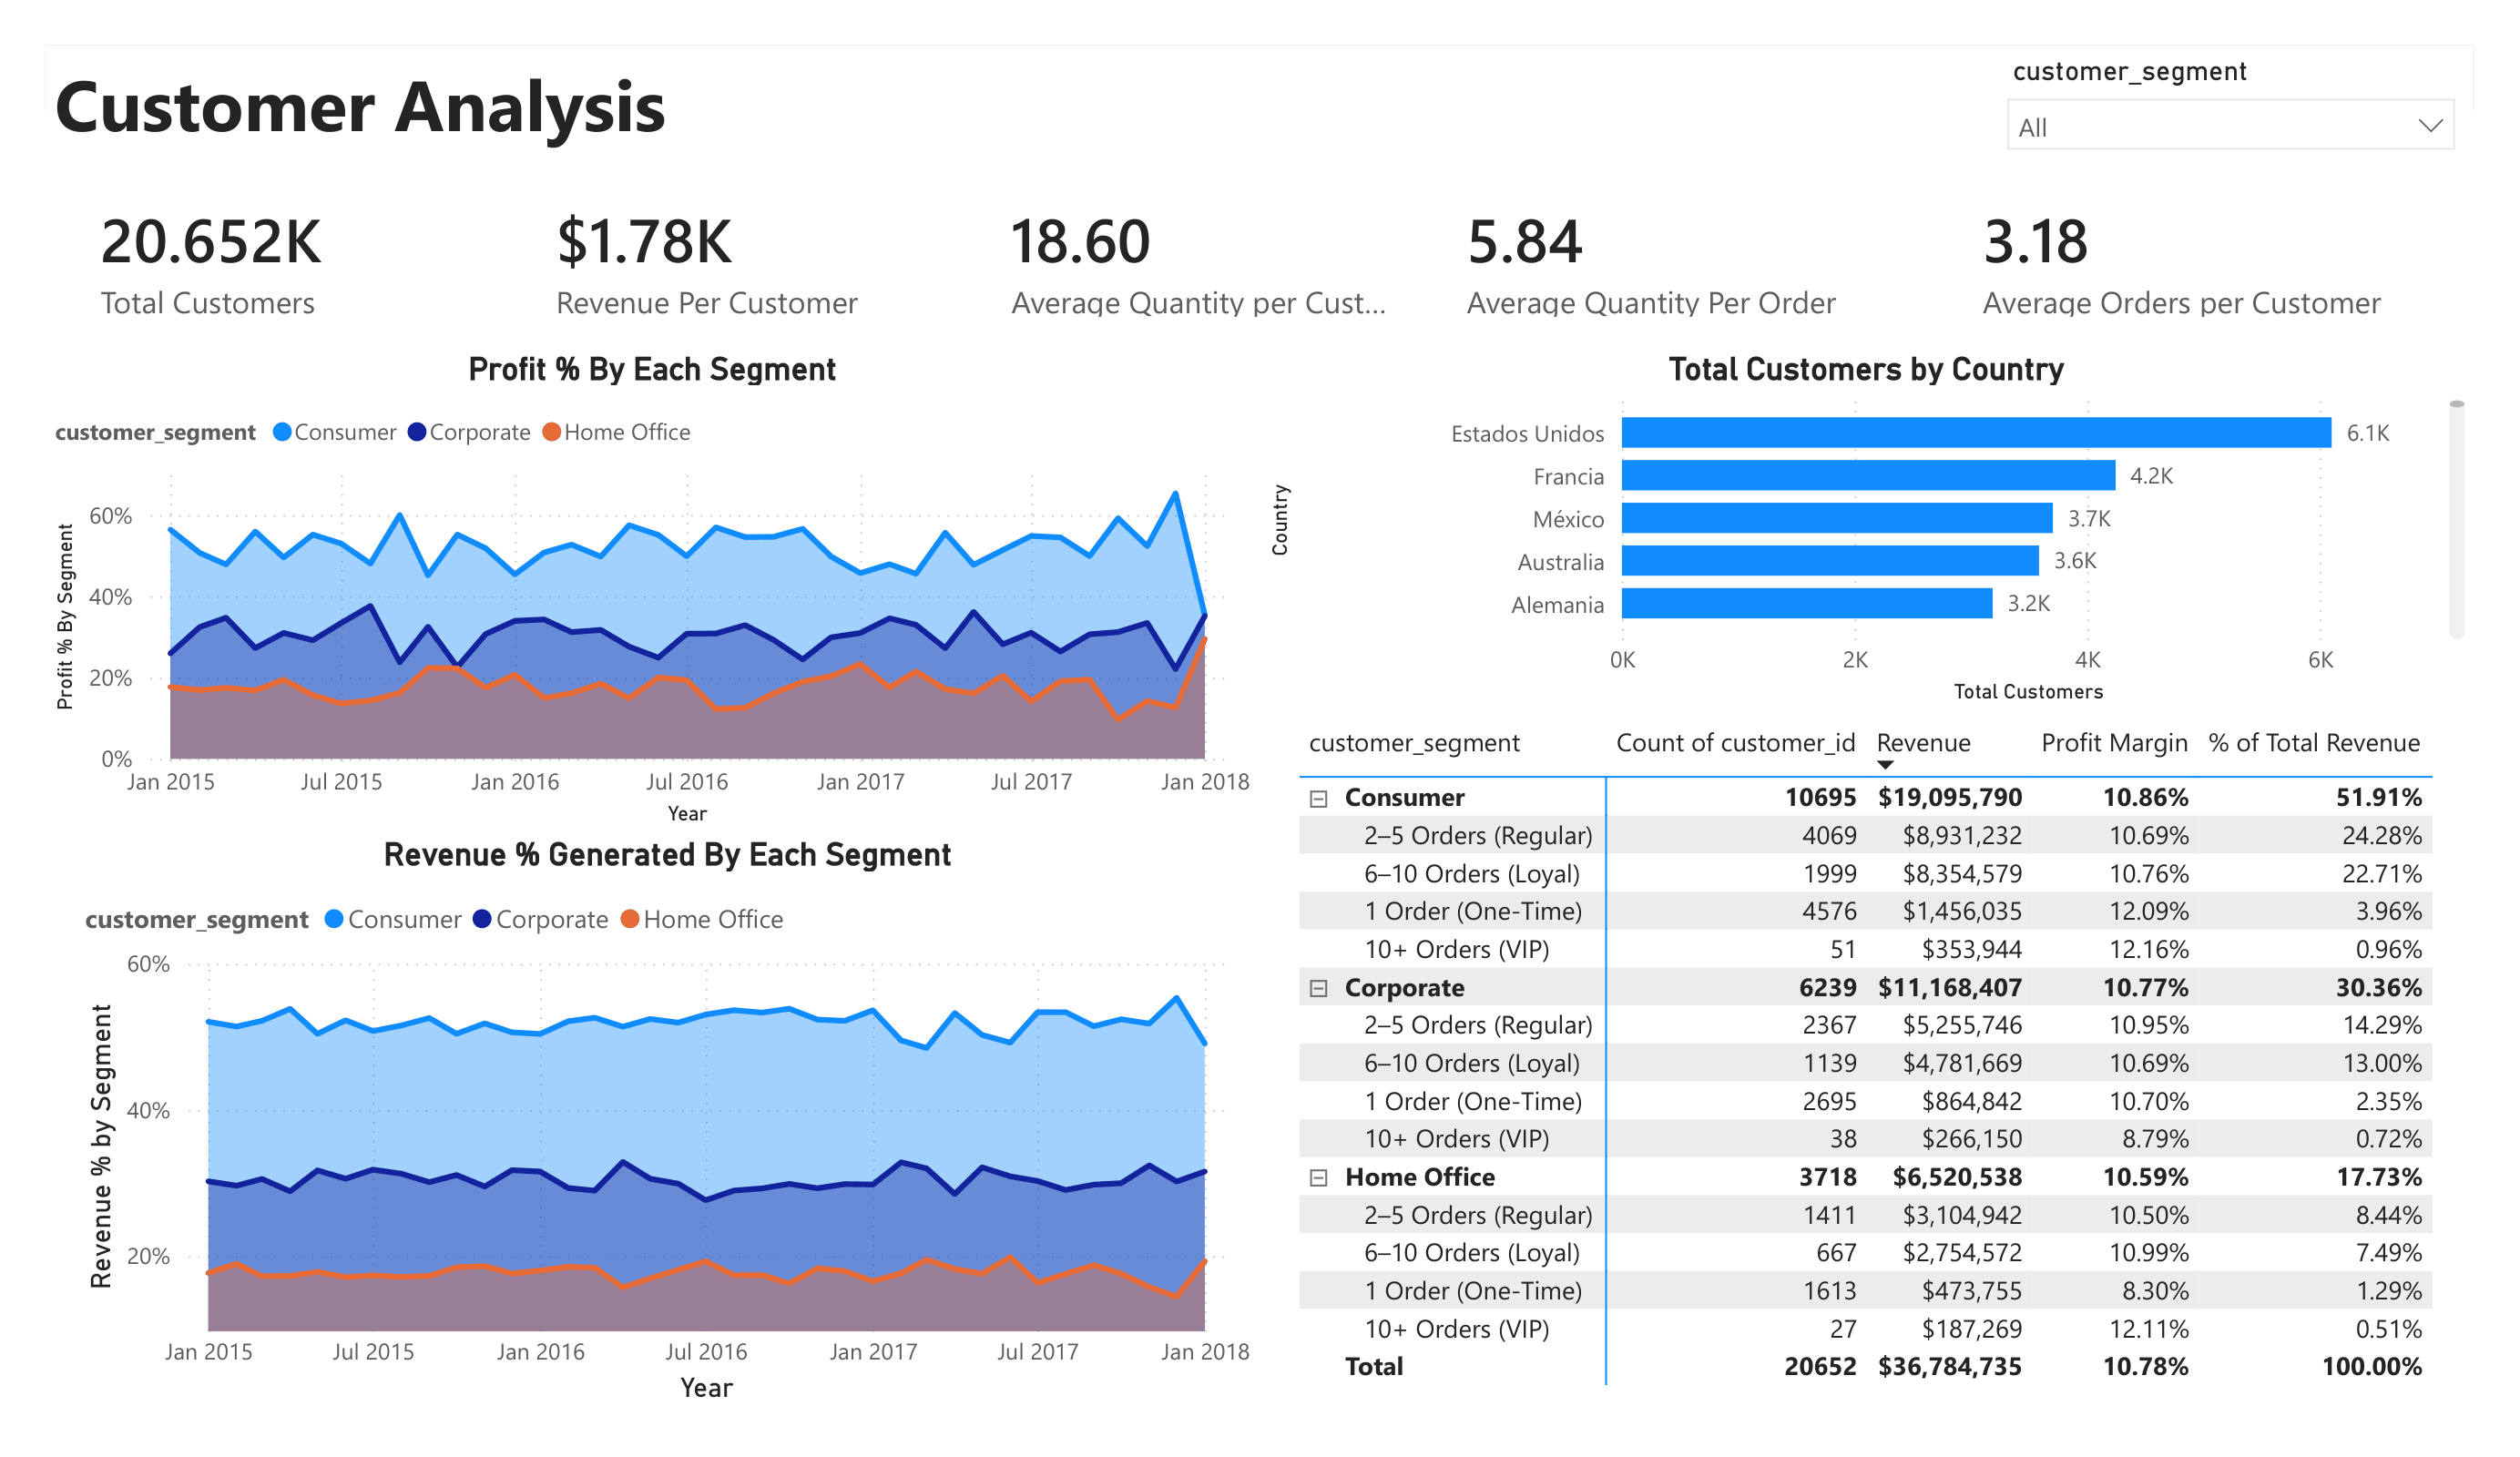

What the dashboard file says about the page in this screenshot:
{"tool":"powerbi","page":{"name":"Page 3","canvas":[1280,720],"ordinal":2},"visuals":[{"type":"textbox","box":[0,0,464,80],"z":0},{"type":"cardVisual","fields":{"Data":["Count(dataco customers.customer_id)"]},"box":[0,64,240,96],"z":1000},{"type":"cardVisual","fields":{"Data":["dataco customers.Revenue per Customer"]},"box":[240,64,240,96],"z":2000},{"type":"cardVisual","fields":{"Data":["dataco customers.Average Quantity per Customer"]},"box":[480,64,256,96],"z":3000},{"type":"cardVisual","fields":{"Data":["dataco customers.Average Quantity per Order"]},"box":[720,64,256,96],"z":4000},{"type":"areaChart","title":"Revenue % Generated By Each Segment","fields":{"Category":["dataco orders.order_date_dateorders.Variation.Date Hierarchy.Year","dataco orders.order_date_dateorders.Variation.Date Hierarchy.Month"],"Series":["dataco customers.customer_segment"],"Y":["dataco customers.Revenue % by Segment"]},"box":[16,416,624,304],"z":5000},{"type":"cardVisual","fields":{"Data":["dataco customers.Average Orders per Customer"]},"box":[992,64,288,96],"z":6000},{"type":"areaChart","title":"Profit % By Each Segment ","fields":{"Category":["dataco orders.order_date_dateorders.Variation.Date Hierarchy.Year","dataco orders.order_date_dateorders.Variation.Date Hierarchy.Month"],"Series":["dataco customers.customer_segment"],"Y":["dataco customers.Profit % by Segment"]},"box":[0,160,640,256],"z":7000},{"type":"pivotTable","fields":{"Rows":["dataco customers.customer_segment","dataco customers.Customer Order Bucket1"],"Values":["Count(dataco customers.customer_id)","dataco customers.Revenue","dataco order_items.Profit Margin","dataco customers.% of Total Revenue"]},"box":[656,352,624,368],"z":8000},{"type":"barChart","fields":{"Category":["dataco orders.order_country"],"Y":["Count(dataco customers.customer_id)"]},"box":[640,160,640,192],"z":9000},{"type":"slicer","fields":{"Values":["dataco customers.customer_segment"]},"box":[1024,0,256,64],"z":10000}]}

Visuals, with their boxes on the page's 1280x720 design canvas (x1, y1, x2, y2). These are canvas units, not pixel positions in the 2520x1457 screenshot, which may show the page scaled, cropped or inside an application window:
textbox: box(0, 0, 464, 80)
cardVisual - Count(dataco customers.customer_id): box(0, 64, 240, 160)
cardVisual - dataco customers.Revenue per Customer: box(240, 64, 480, 160)
cardVisual - dataco customers.Average Quantity per Customer: box(480, 64, 736, 160)
cardVisual - dataco customers.Average Quantity per Order: box(720, 64, 976, 160)
"Revenue % Generated By Each Segment" areaChart: box(16, 416, 640, 720)
cardVisual - dataco customers.Average Orders per Customer: box(992, 64, 1280, 160)
"Profit % By Each Segment " areaChart: box(0, 160, 640, 416)
pivotTable - dataco customers.customer_segment x dataco customers.Customer Order Bucket1: box(656, 352, 1280, 720)
barChart - dataco orders.order_country x Count(dataco customers.customer_id): box(640, 160, 1280, 352)
slicer - dataco customers.customer_segment: box(1024, 0, 1280, 64)
